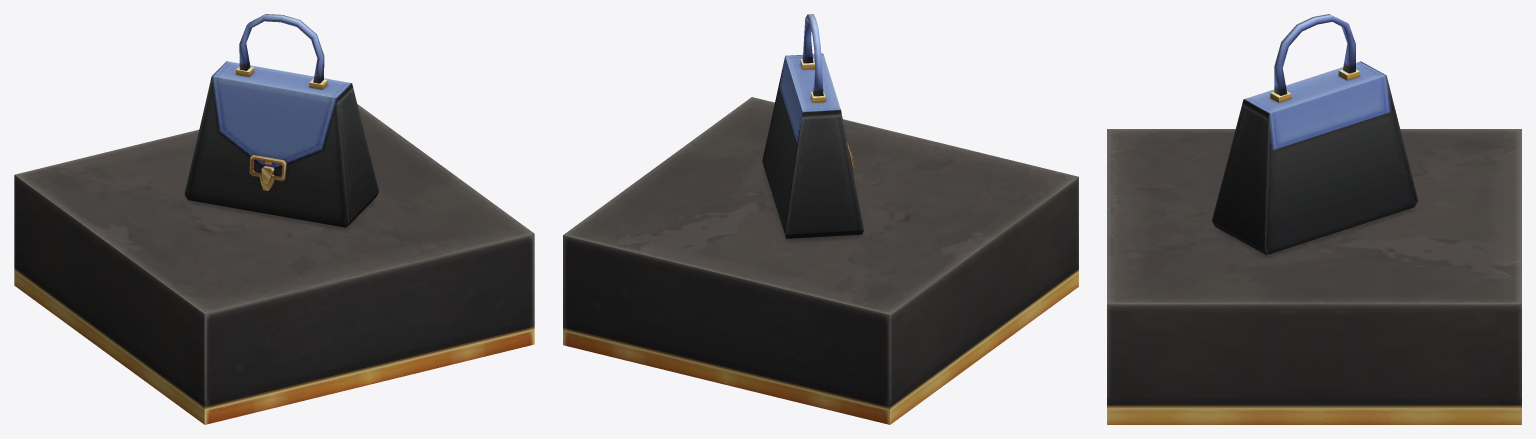
The model's file is my_shoppingmall_01_bagstand_01.glb.
The picture shows the model from 3 angles, left to right: view 1: azimuth 30°, elevation 25°; view 2: azimuth 150°, elevation 25°; view 3: azimuth 270°, elevation 25°; orthographic projection. The views are drawn at different scales.
Visible parts, largest first — view 1: my_shoppingmall_01_bagstand_01; view 2: my_shoppingmall_01_bagstand_01; view 3: my_shoppingmall_01_bagstand_01.
Part boxes in pixels (x1,y1,x2,y2): my_shoppingmall_01_bagstand_01: (14,14,534,424); my_shoppingmall_01_bagstand_01: (563,14,1078,424); my_shoppingmall_01_bagstand_01: (1107,14,1521,424).
Bounding box in the file's own units: 0.00578 × 0.00497 × 0.00578.
1 material, 1 textured.
